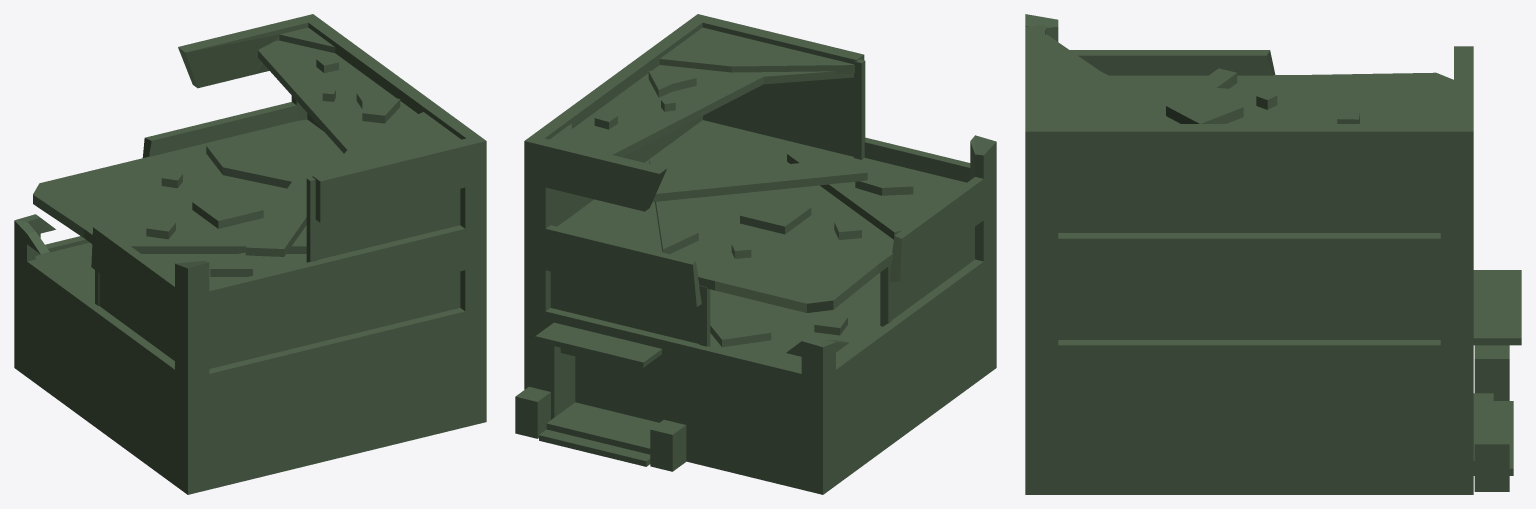
Rendered from damaged_B_custom.FBX.
The picture shows the model from 3 angles, left to right: view 1: azimuth 30°, elevation 25°; view 2: azimuth 150°, elevation 25°; view 3: azimuth 270°, elevation 25°; orthographic projection. The views are drawn at different scales.
Visible parts, largest first — view 1: office_damaged_01; view 2: office_damaged_01; view 3: office_damaged_01.
Boxes of the visible parts, <box> form: office_damaged_01: <box>14,14,486,494</box>; office_damaged_01: <box>515,14,996,494</box>; office_damaged_01: <box>1025,14,1521,494</box>.
Size of the model in its own units: 13.62 by 12.24 by 15.17.
